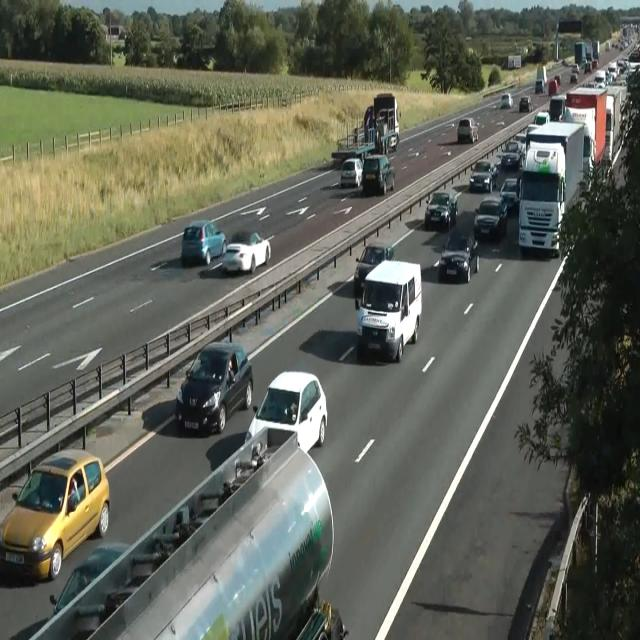bus: (0, 447, 110, 582), (245, 370, 328, 454), (180, 218, 227, 266), (222, 230, 271, 275), (439, 228, 479, 282), (353, 243, 395, 293), (424, 190, 458, 230), (500, 177, 520, 212), (340, 158, 363, 188), (500, 140, 522, 169), (457, 117, 479, 143), (518, 95, 532, 112), (533, 111, 549, 125), (594, 69, 606, 87), (500, 92, 512, 109), (579, 58, 591, 73), (570, 64, 578, 83), (535, 79, 545, 93)
car: (21, 424, 348, 638)
jeep: (175, 339, 253, 434), (354, 258, 422, 362), (473, 196, 507, 239), (361, 153, 395, 195), (468, 158, 498, 192)
minibus: (517, 120, 591, 257), (563, 84, 627, 176), (331, 92, 400, 166), (373, 92, 400, 152), (574, 39, 600, 72), (535, 64, 547, 93), (501, 54, 521, 70)
